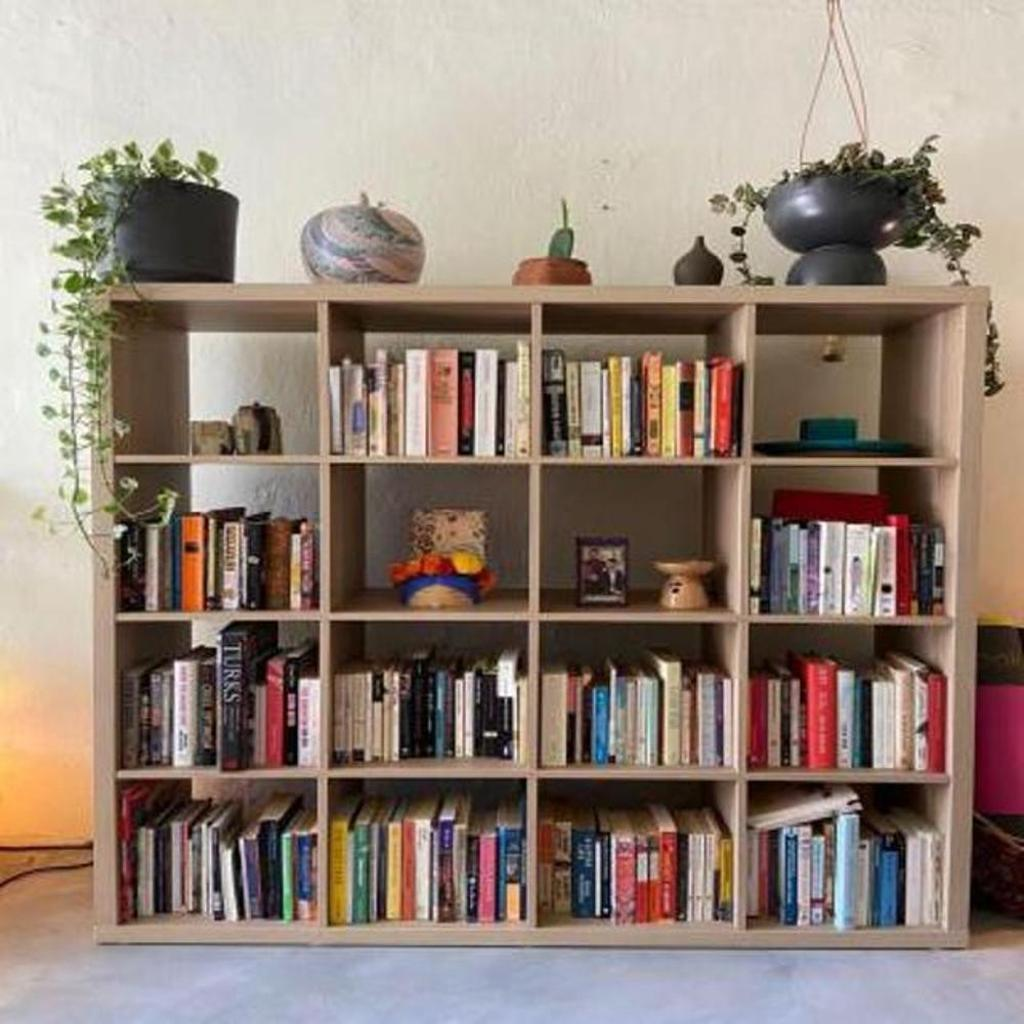lamp: (69, 275, 980, 953)
